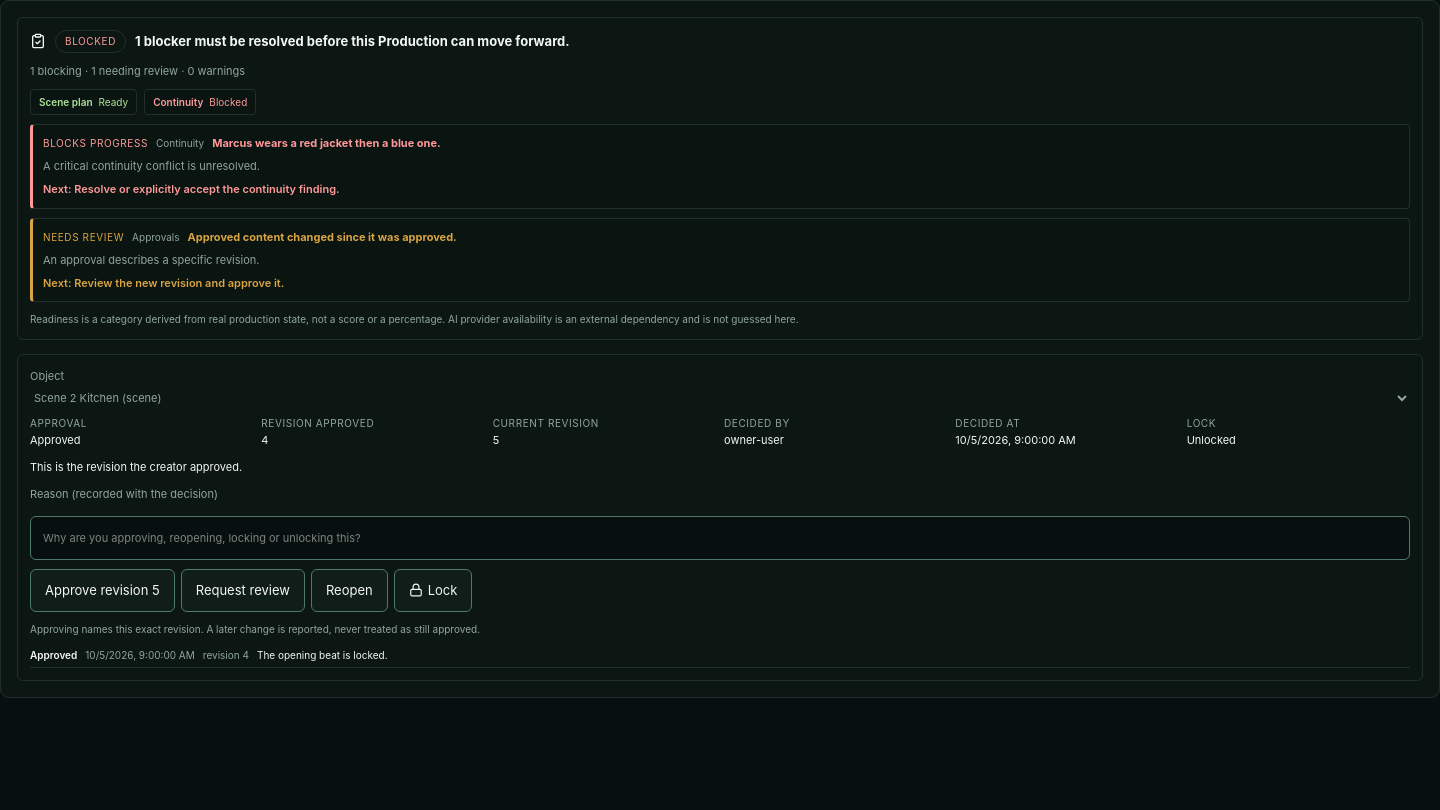
approval state › sends an approval with the revision the creator is looking at
Type "Ship the beat." into the field named "Decision reason" at (720,538), box x1=30 y1=516 x2=1410 y2=560
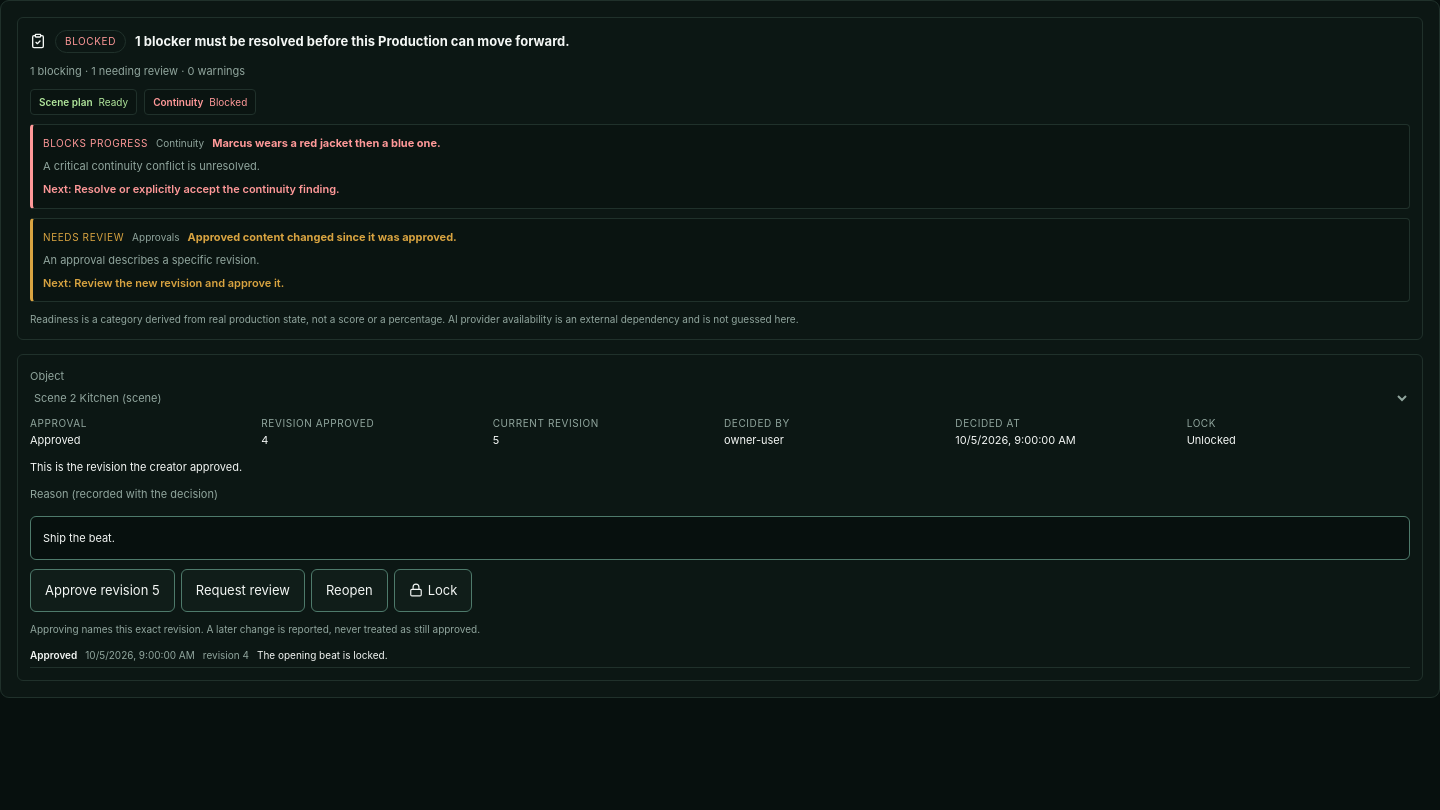
Click the button "Approve revision 5" at (102,590), box x1=30 y1=569 x2=175 y2=612
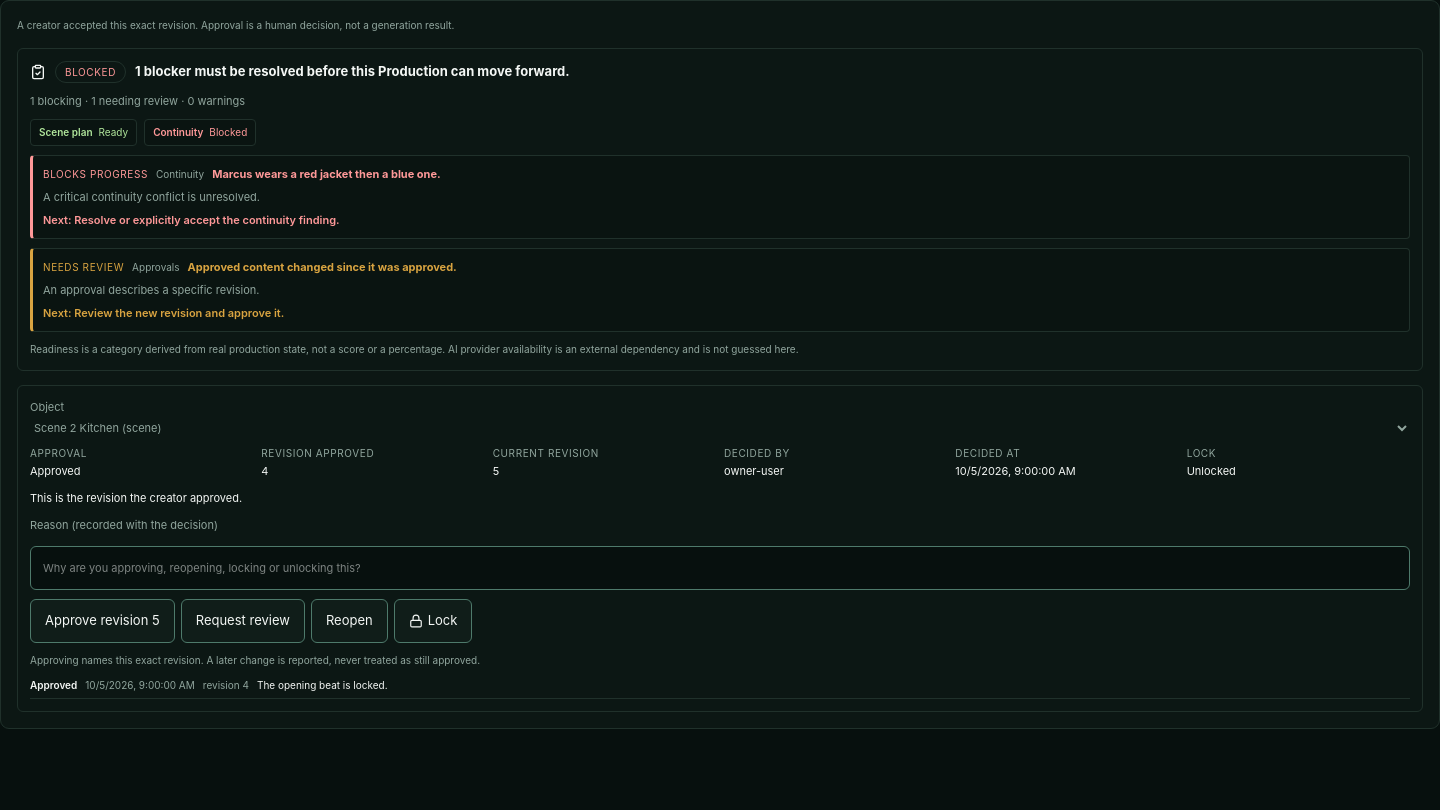
Now the text "A creator accepted this exact revision" is shown, box x1=17 y1=19 x2=454 y2=31
